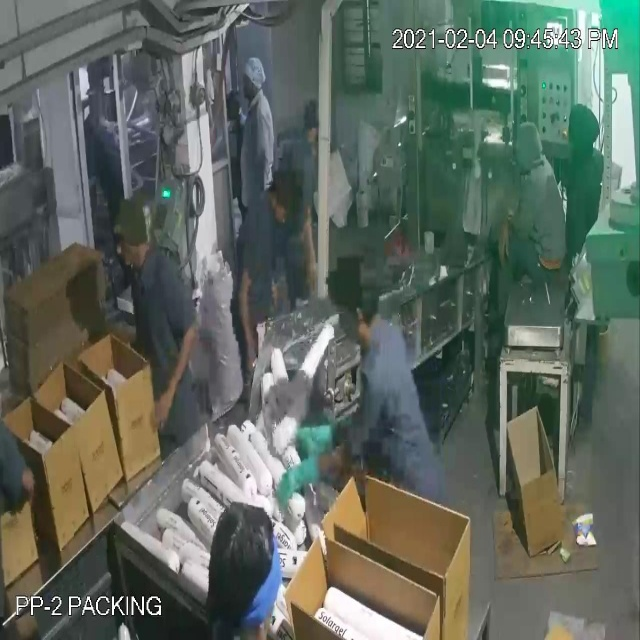Guantes: (272, 455, 327, 509), (291, 409, 352, 452)
Sin_guantes: (142, 317, 208, 443), (231, 242, 267, 376), (298, 201, 326, 304), (494, 208, 522, 282)
